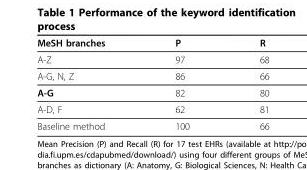table: (36, 36, 268, 131)
table column: (36, 36, 139, 131), (139, 36, 223, 131), (223, 36, 268, 131)
table column header: (36, 36, 268, 50)
table row: (36, 50, 268, 67), (36, 83, 268, 100), (36, 100, 268, 117), (36, 67, 268, 83), (36, 36, 268, 50), (36, 117, 268, 131)
